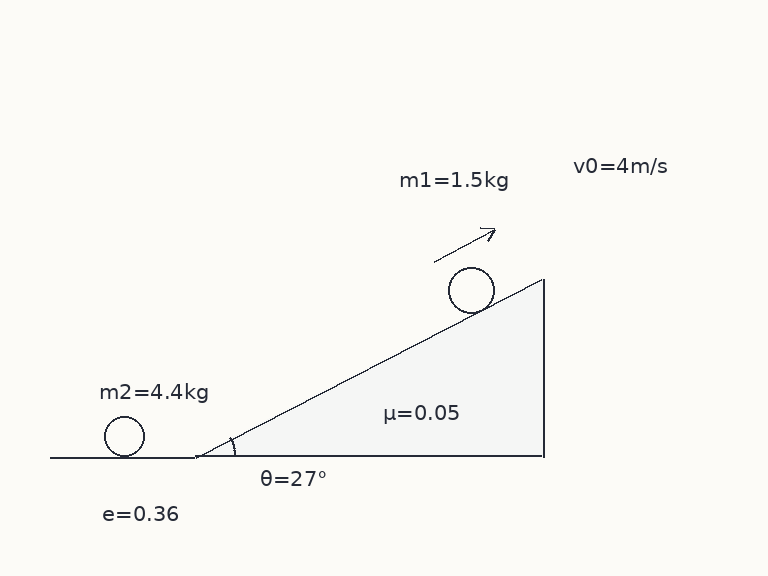ball: (446, 265, 496, 315), (102, 414, 146, 458)
ramp: (193, 277, 544, 458)
